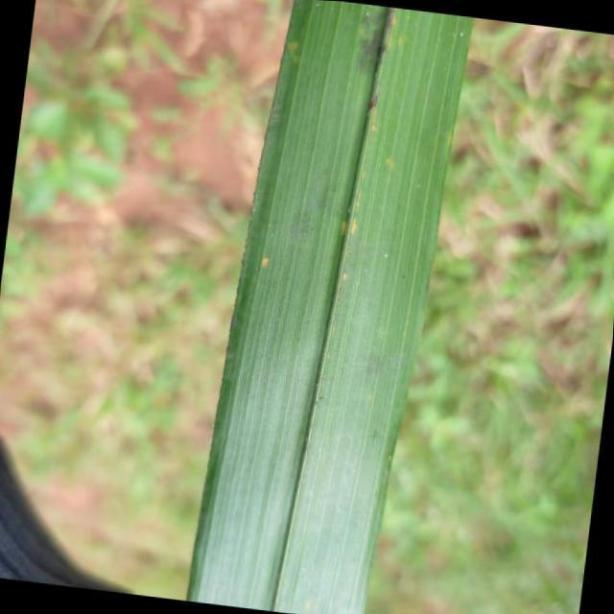Kalium: (179, 0, 470, 614)
